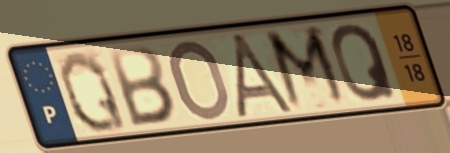A: (229, 29, 301, 121)
B: (104, 42, 179, 129)
M: (260, 22, 354, 115)
O: (168, 37, 234, 123)
Q: (56, 47, 132, 136), (329, 21, 401, 105)
